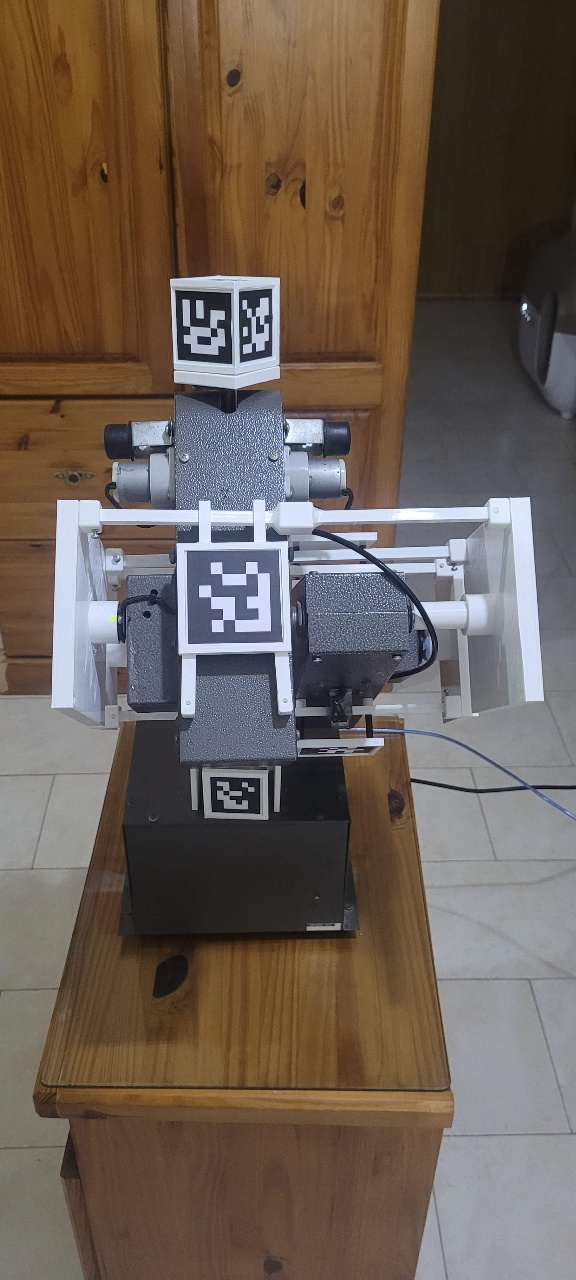Robot: (64, 282, 535, 1127)
